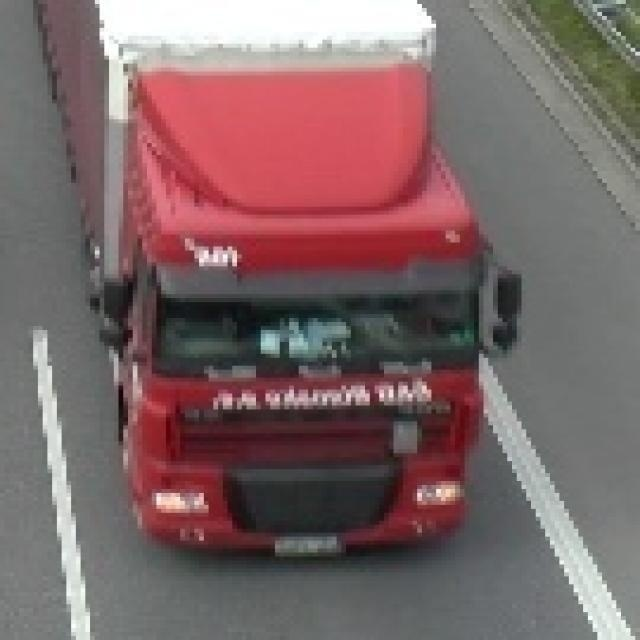Truck: (33, 0, 517, 557)
